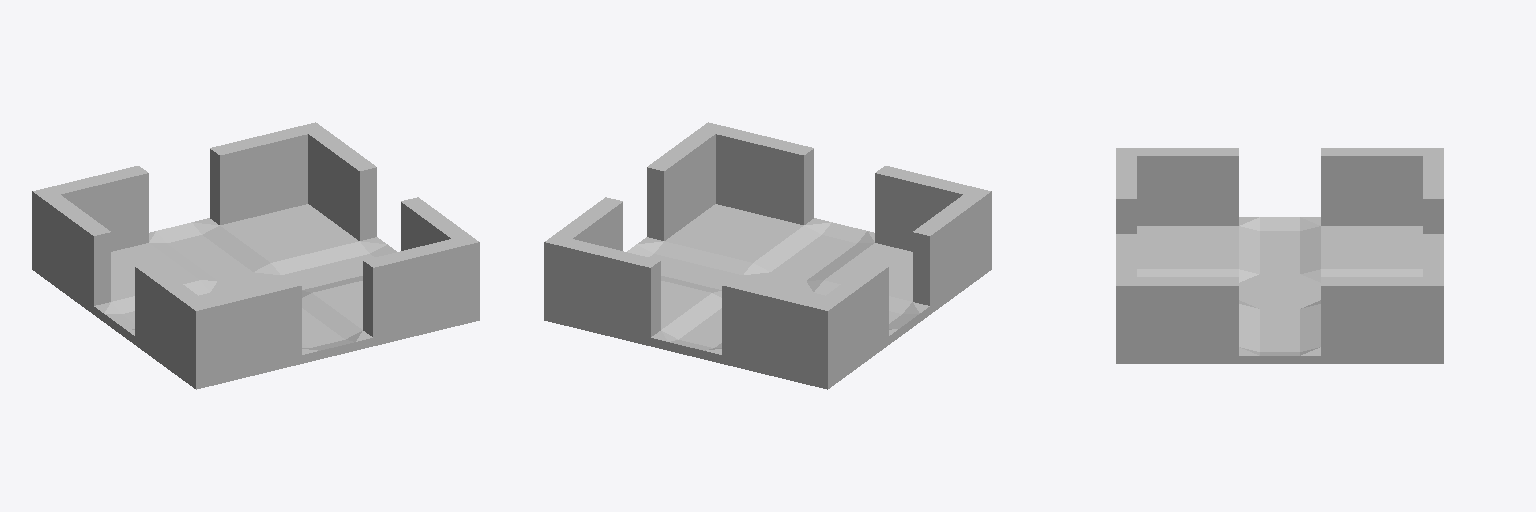
File: sewer_room.obj
3 views of the same model, side by side, from view 1: azimuth 30°, elevation 25°; view 2: azimuth 150°, elevation 25°; view 3: azimuth 270°, elevation 25° (orthographic).
Parts seen in each view (by area): view 1: polySurface8; view 2: polySurface8; view 3: polySurface8.
Boxes of the visible parts, box(x1,y1,x2,y2) form: polySurface8: box(32, 122, 479, 389); polySurface8: box(544, 122, 991, 389); polySurface8: box(1116, 148, 1443, 363).
Size of the model in its own units: 34 by 9 by 34.